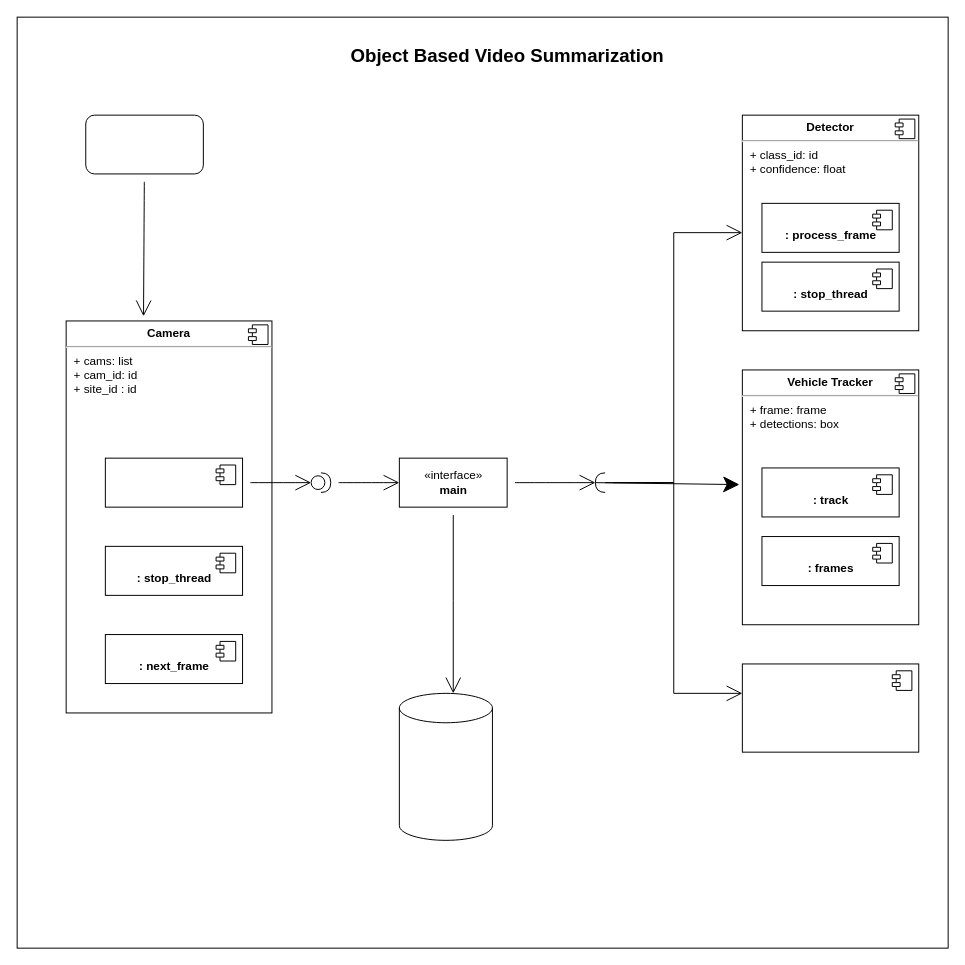
Image size: 965x965. Some labels were removed from this diagram. Each missing label, with the centre of its shape:
buffer: point 173,482
Database: point 445,766
Person Tracker: point 830,707
Video Input: point 144,144
